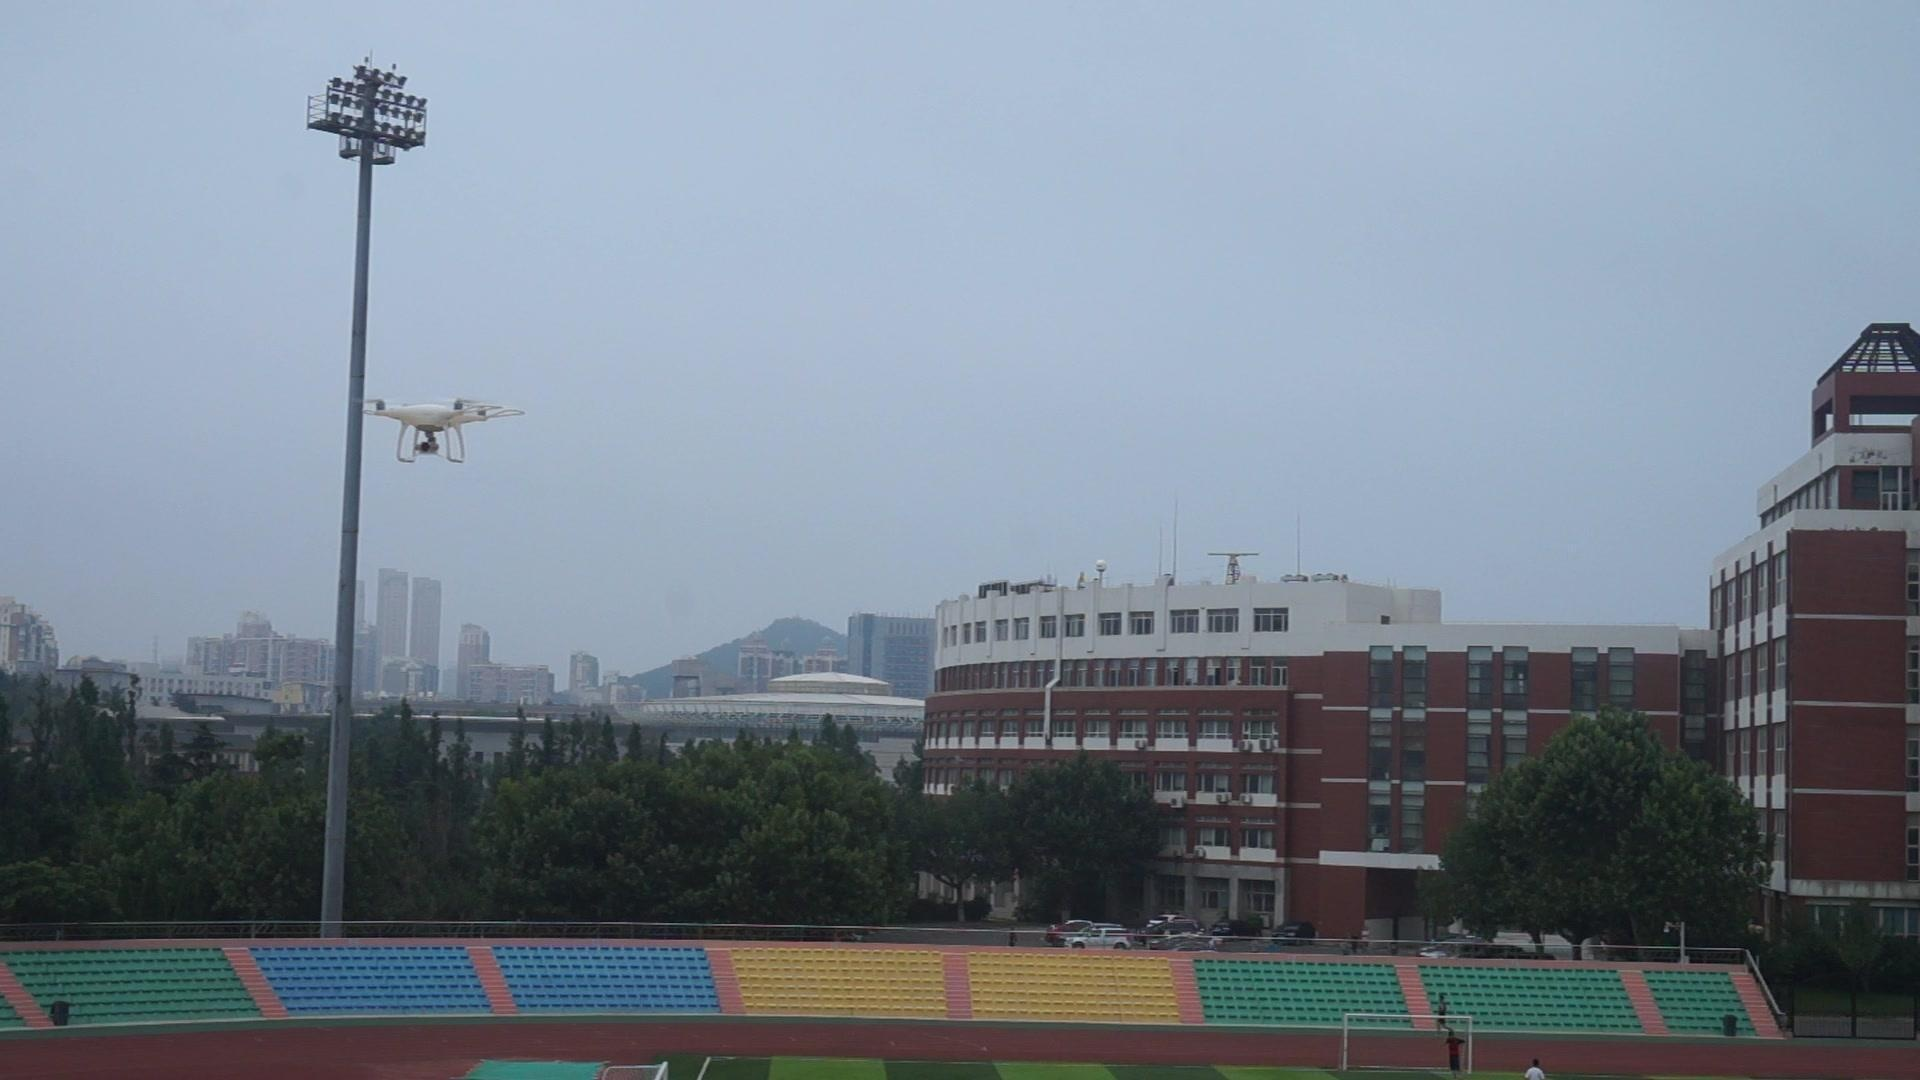UAV: (356, 398, 527, 464)
